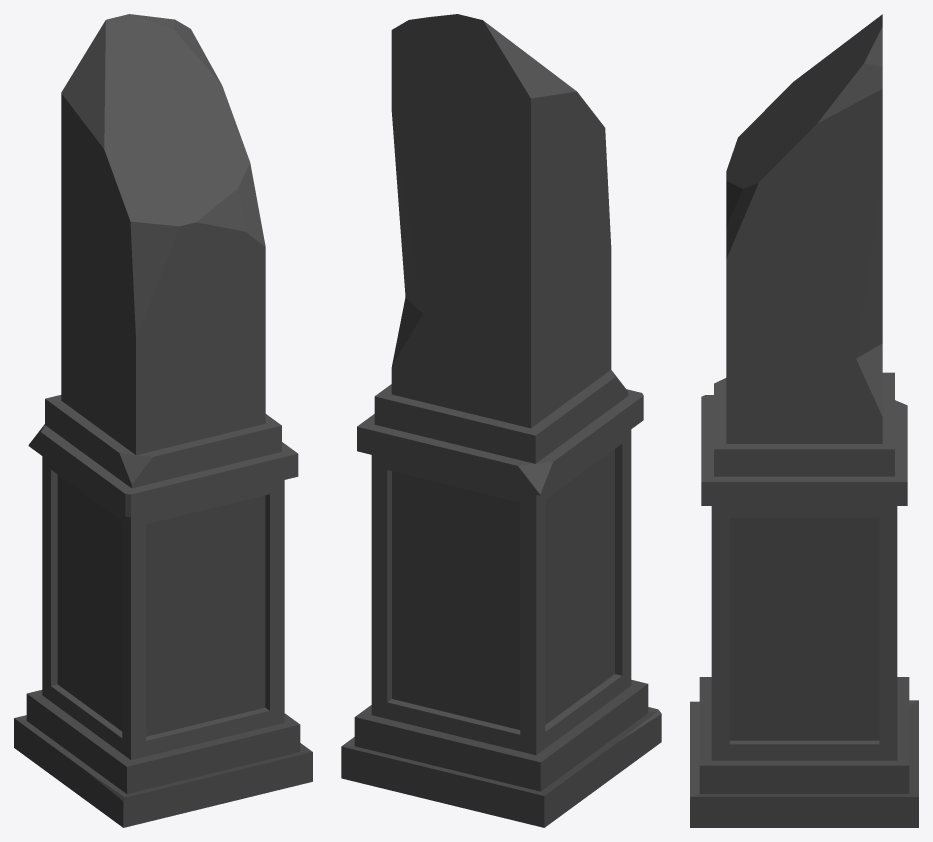
Rendered from Ruins_04.fbx.
3 views of the same model, side by side, from view 1: azimuth 30°, elevation 25°; view 2: azimuth 150°, elevation 25°; view 3: azimuth 270°, elevation 25° (orthographic). The views are drawn at different scales.
Parts seen in each view (by area): view 1: Ruins_04_LOD0; view 2: Ruins_04_LOD0; view 3: Ruins_04_LOD0.
Boxes of the visible parts, x1,y1,x2,y2 form: Ruins_04_LOD0: (14, 14, 312, 827); Ruins_04_LOD0: (341, 14, 661, 827); Ruins_04_LOD0: (690, 14, 918, 827).
Size of what is drawn, in the model's own units: 101 by 368 by 101.
